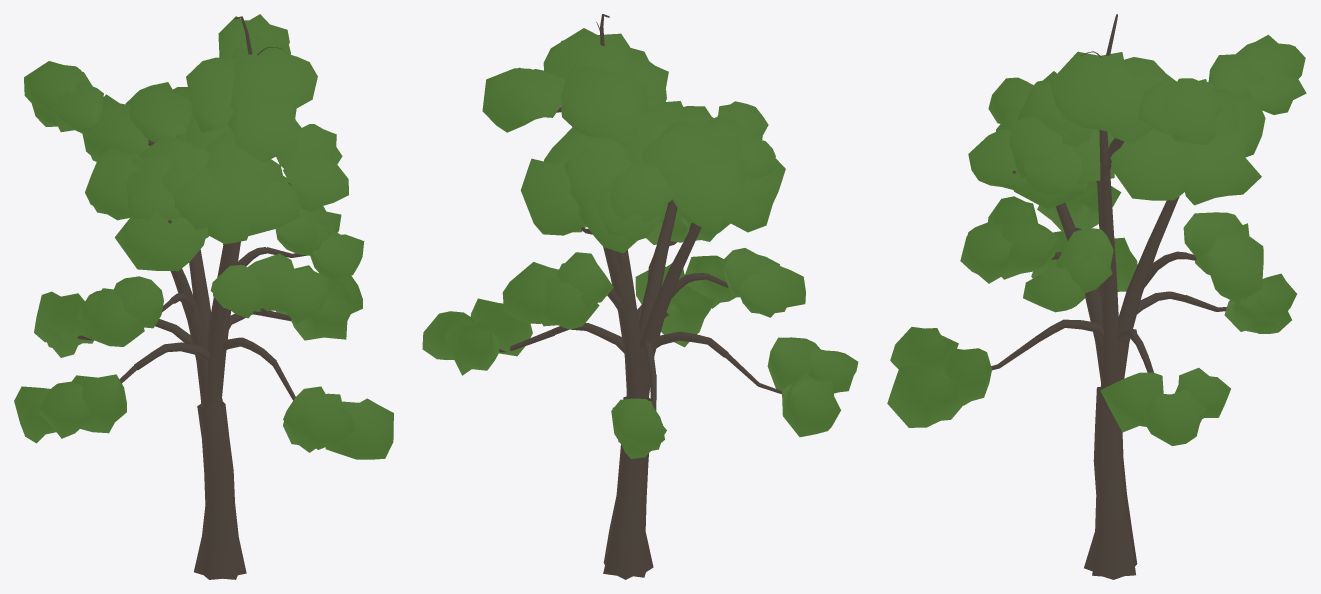
The model's file is Blender_ChestnutOak_1.glb.
The picture shows the model from 3 angles, left to right: view 1: azimuth 30°, elevation 25°; view 2: azimuth 150°, elevation 25°; view 3: azimuth 270°, elevation 25°; orthographic projection. The views are drawn at different scales.
Parts seen in each view (by area): view 1: Blender_ChestnutOak_1; view 2: Blender_ChestnutOak_1; view 3: Blender_ChestnutOak_1.
Boxes of the visible parts, x1,y1,x2,y2 form: Blender_ChestnutOak_1: [14, 14, 393, 579]; Blender_ChestnutOak_1: [422, 14, 858, 579]; Blender_ChestnutOak_1: [887, 14, 1306, 579].
Size of the model in its own units: 16.55 by 23.07 by 15.57.
